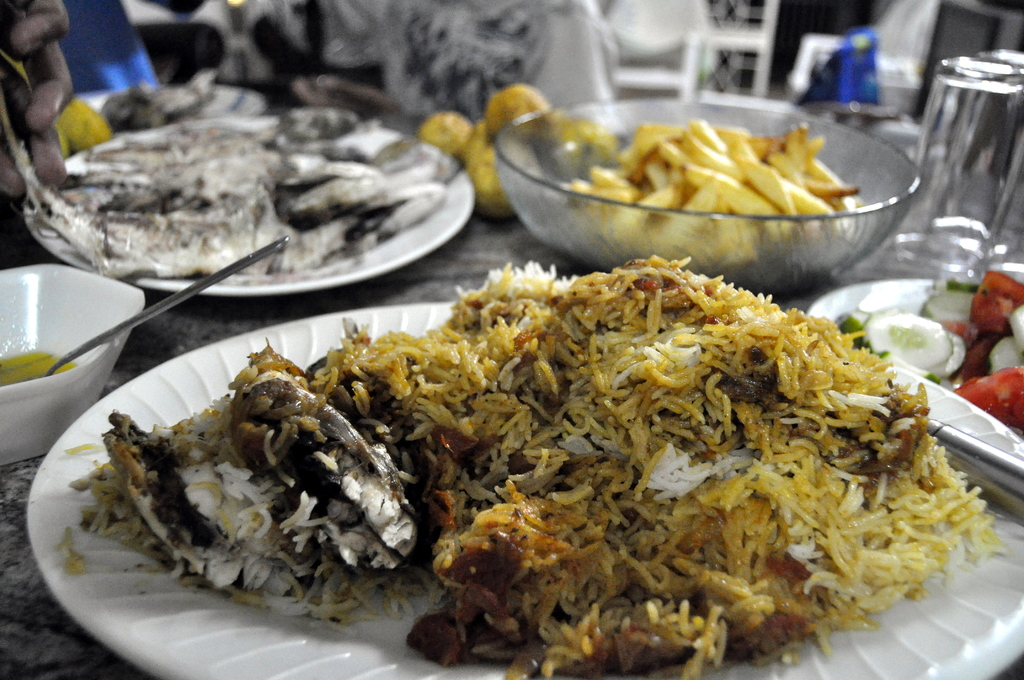French fries: (551, 115, 891, 245)
